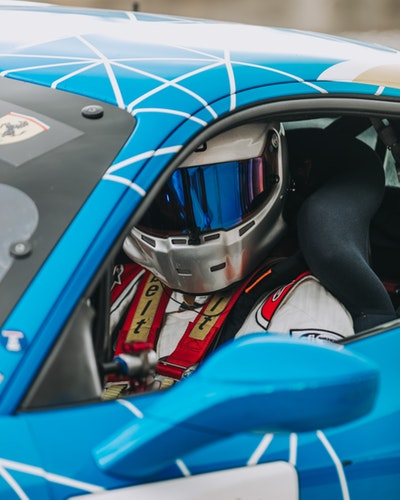helmet: (120, 110, 287, 283)
